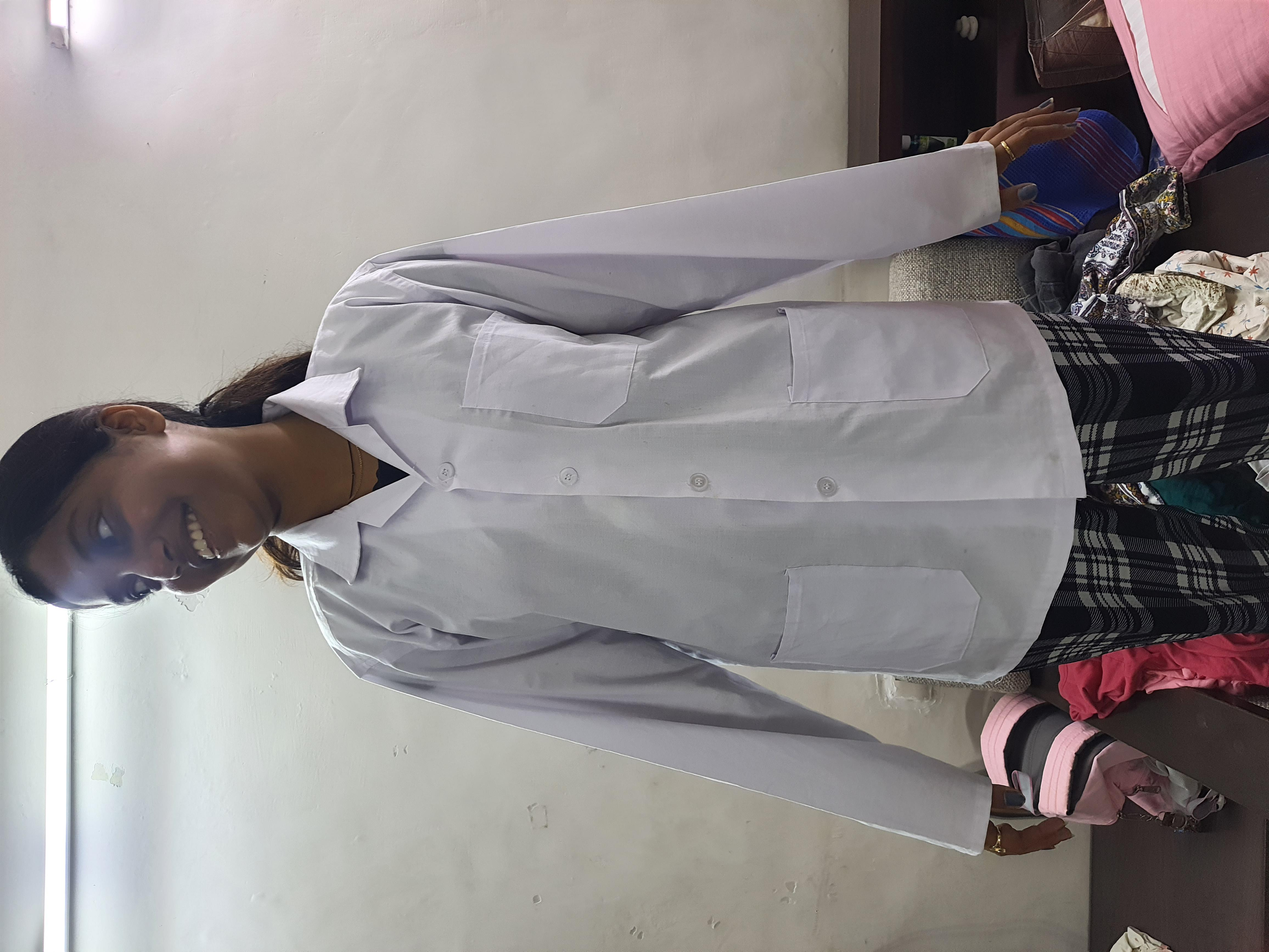Lab_coat: (131, 198, 1077, 813)
